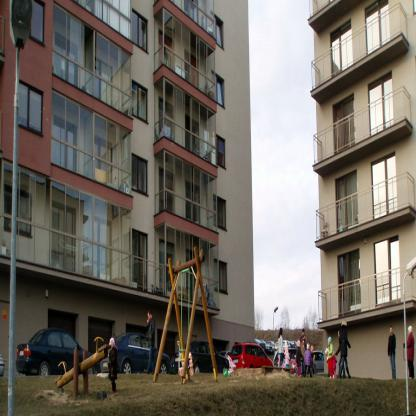Car: (14, 326, 322, 375), (0, 350, 6, 377)
